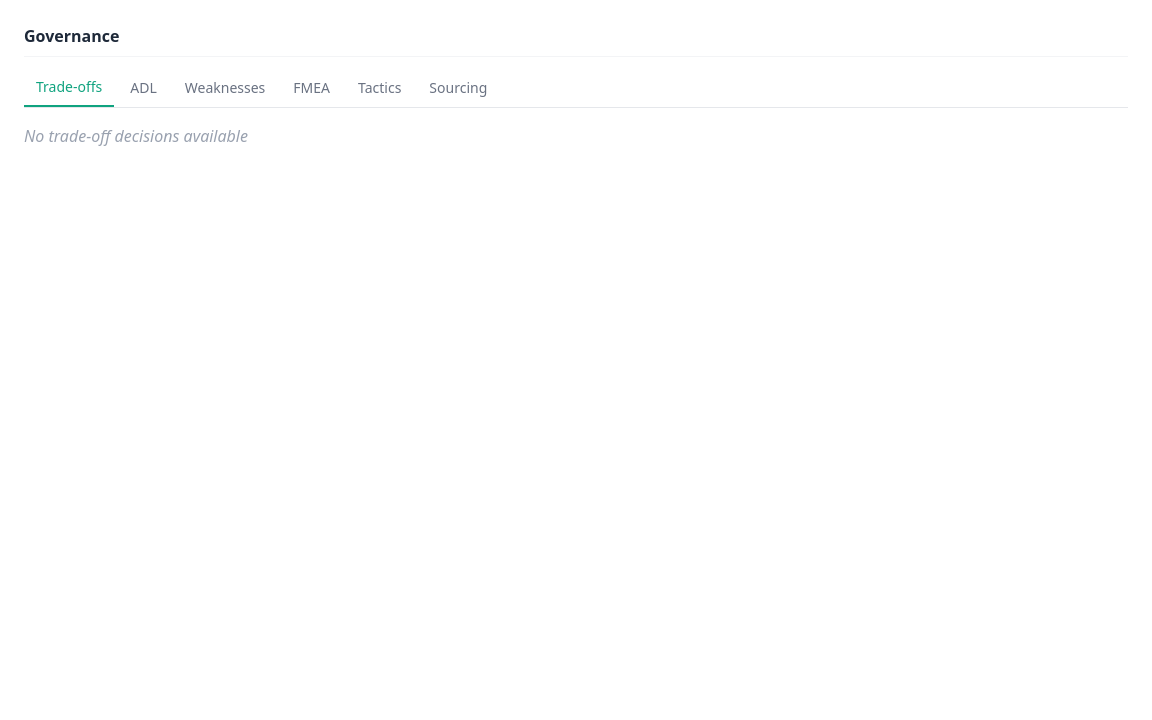
it: GovernanceView › fillsMissingSourcingDecisionsFromComponentOwnership
The width and height of the screenshot is (1152, 720).
What coordinates should you click on to do the following:
click the button with test id "tab-sourcing"
I would click on:
 (458, 88)
Its box is [417,69,499,107].
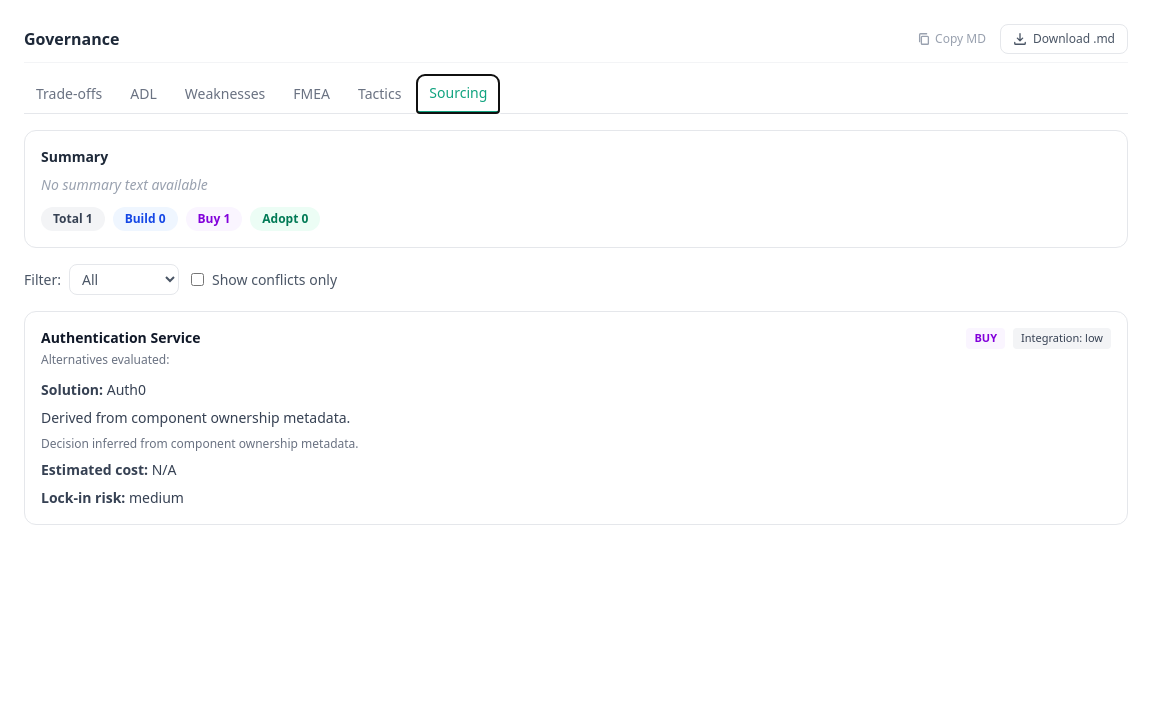
Now the text "Buy 1" is shown, box [186,207,242,231]
Now the text "Authentication Service" is shown, box [41,328,200,348]
Now the text "Decision inferred from component ownership metadata." is shown, box [41,435,358,452]
